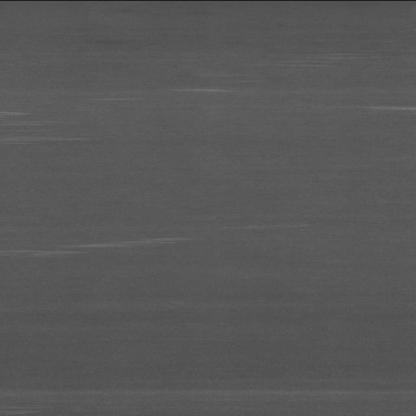silk_spot: (20, 222, 178, 266), (266, 36, 354, 74), (3, 110, 78, 151), (141, 77, 246, 98), (327, 96, 415, 109)
